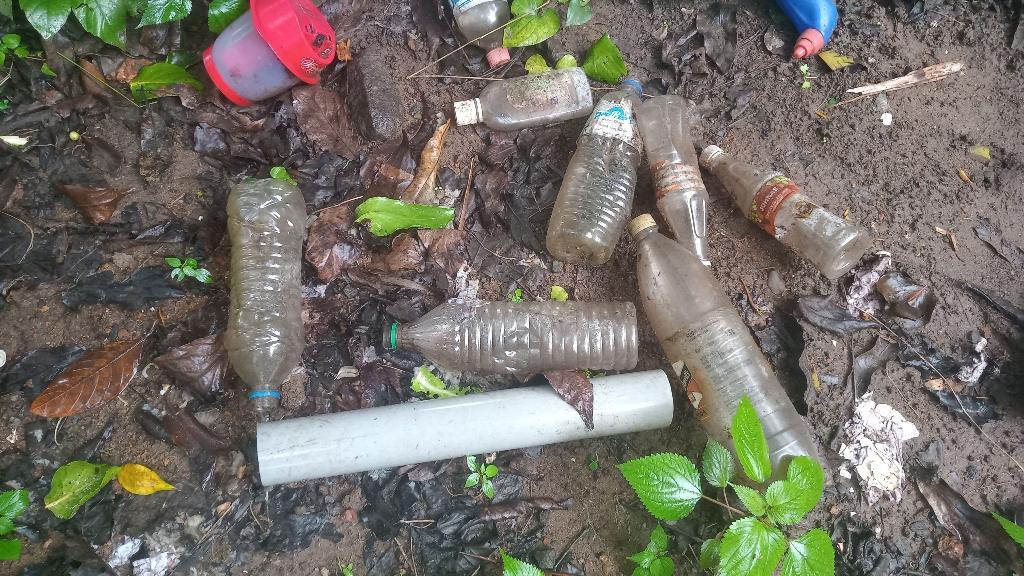garbage: (652, 195, 771, 510), (696, 137, 873, 279), (215, 170, 316, 417), (378, 288, 641, 375), (626, 88, 720, 265), (564, 73, 646, 274), (430, 68, 604, 138), (778, 6, 840, 59)
